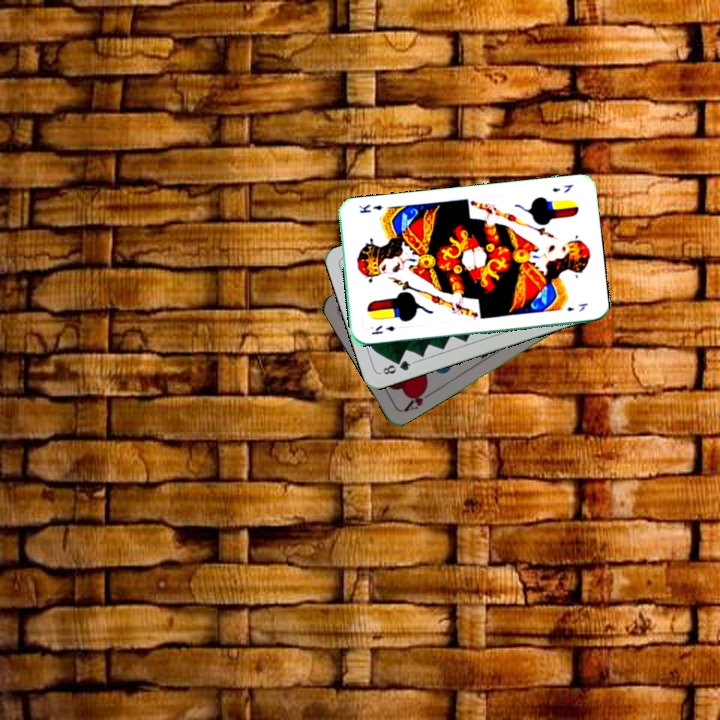EK: (368, 321, 398, 337), (549, 181, 576, 195)
G8: (377, 356, 416, 377)
HA: (400, 383, 435, 415)
